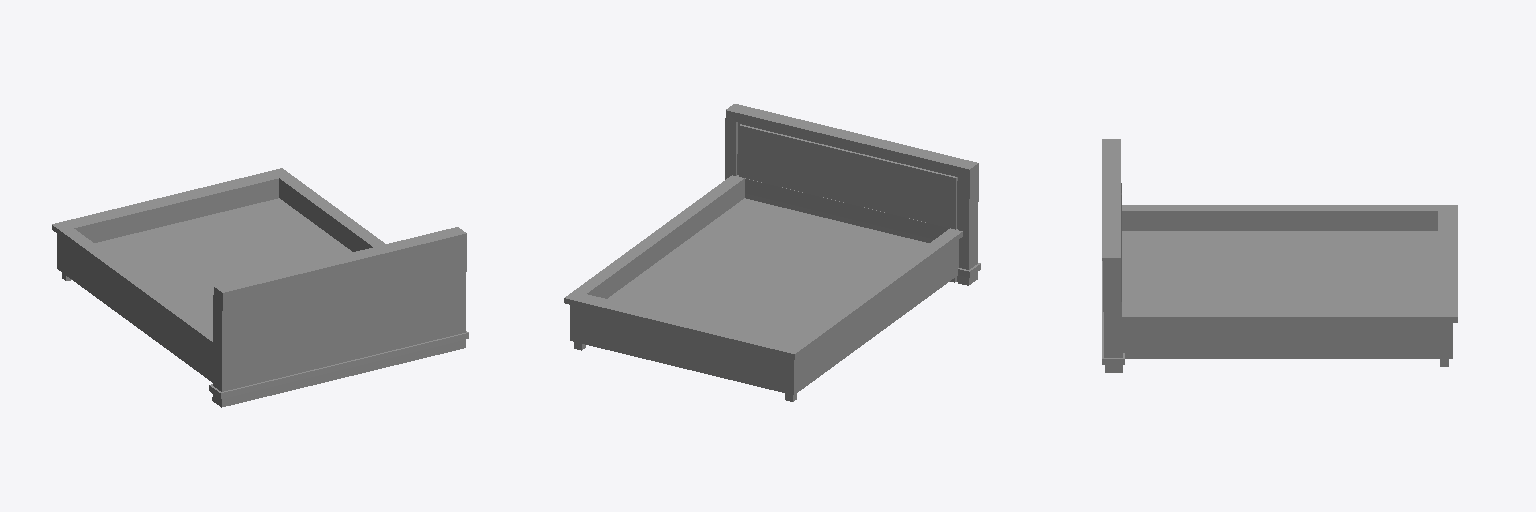
The model's file is bed.obj.
3 renders of one model, left to right at view 1: azimuth 30°, elevation 25°; view 2: azimuth 150°, elevation 25°; view 3: azimuth 270°, elevation 25°, orthographic.
Parts seen in each view (by area): view 1: Plane.001; view 2: Plane.001; view 3: Plane.001.
Boxes of the visible parts, x1=… form: Plane.001: x1=52, y1=168, x2=468, y2=407; Plane.001: x1=564, y1=104, x2=980, y2=401; Plane.001: x1=1102, y1=139, x2=1457, y2=372.
Bounding box in the file's own units: 1.66 × 0.7386 × 2.06.